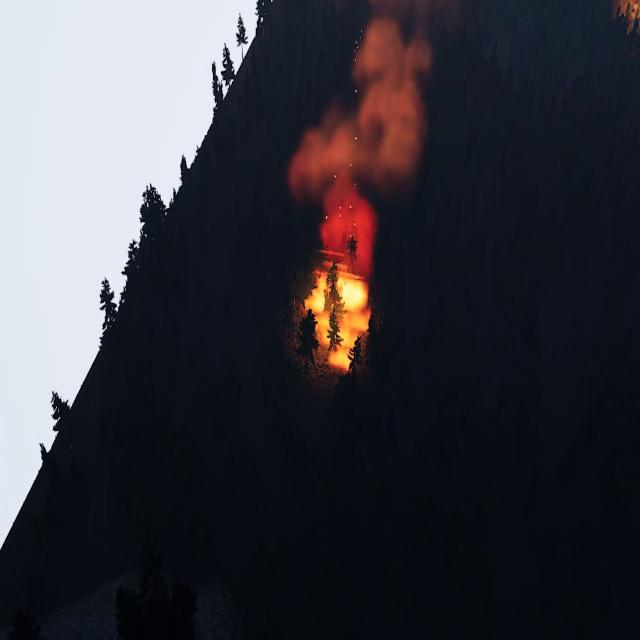fire: (303, 266, 372, 369)
smoke: (290, 4, 462, 263)
